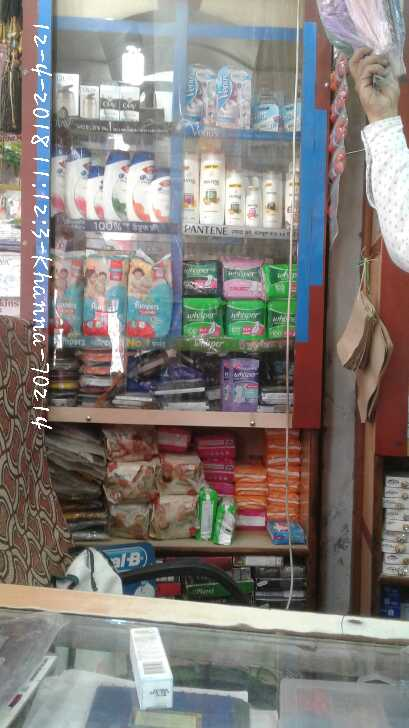venus: (216, 67, 252, 126), (188, 63, 214, 125), (255, 104, 281, 129)
